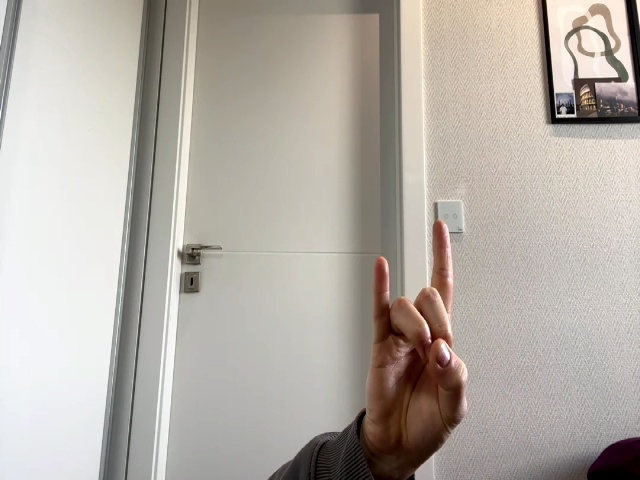Y: (366, 220, 468, 450)
